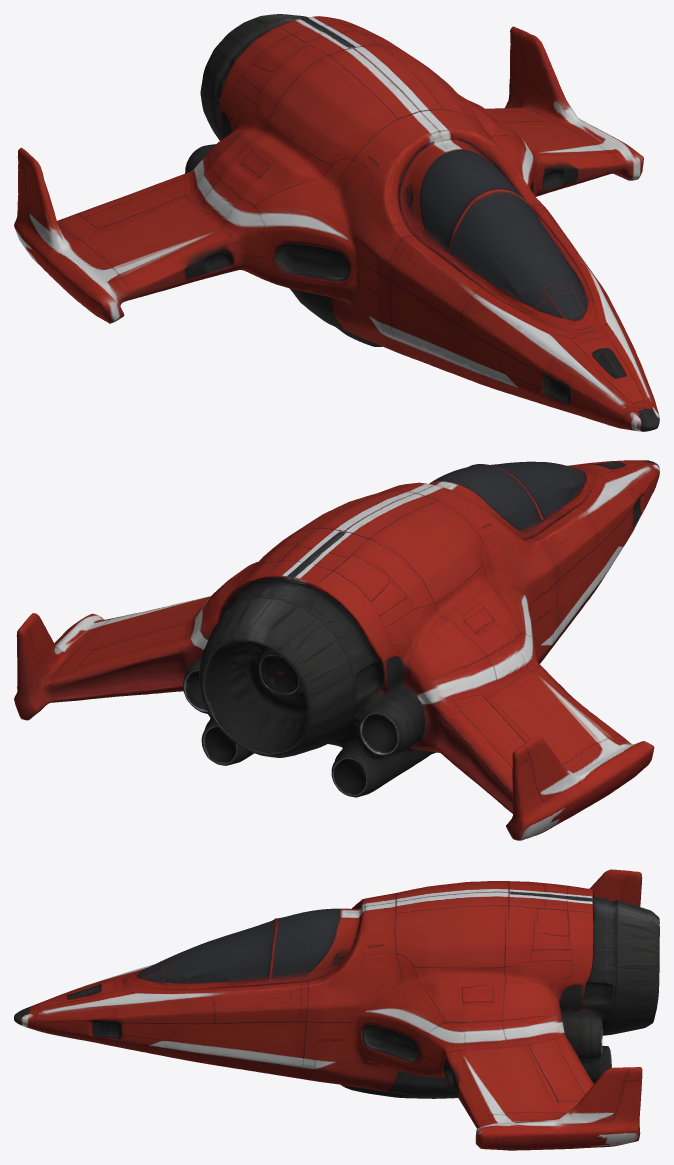
The model's file is futuristic_spacecraft.glb.
3 views of the same model, one above another, from view 1: azimuth 30°, elevation 25°; view 2: azimuth 150°, elevation 25°; view 3: azimuth 270°, elevation 25° (orthographic). The views are drawn at different scales.
Parts seen in each view (by area): view 1: input; view 2: input; view 3: input.
Boxes of the visible parts, x1,y1,x2,y2 form: input: (14,14,659,431); input: (14,460,659,840); input: (14,869,659,1150).
Bounding box in the file's own units: 4.85 × 1.94 × 6.
1 material, 1 textured.
